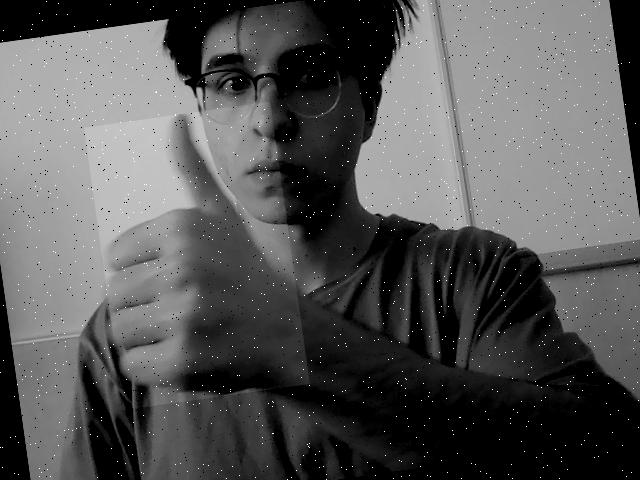good: (101, 116, 296, 392)
